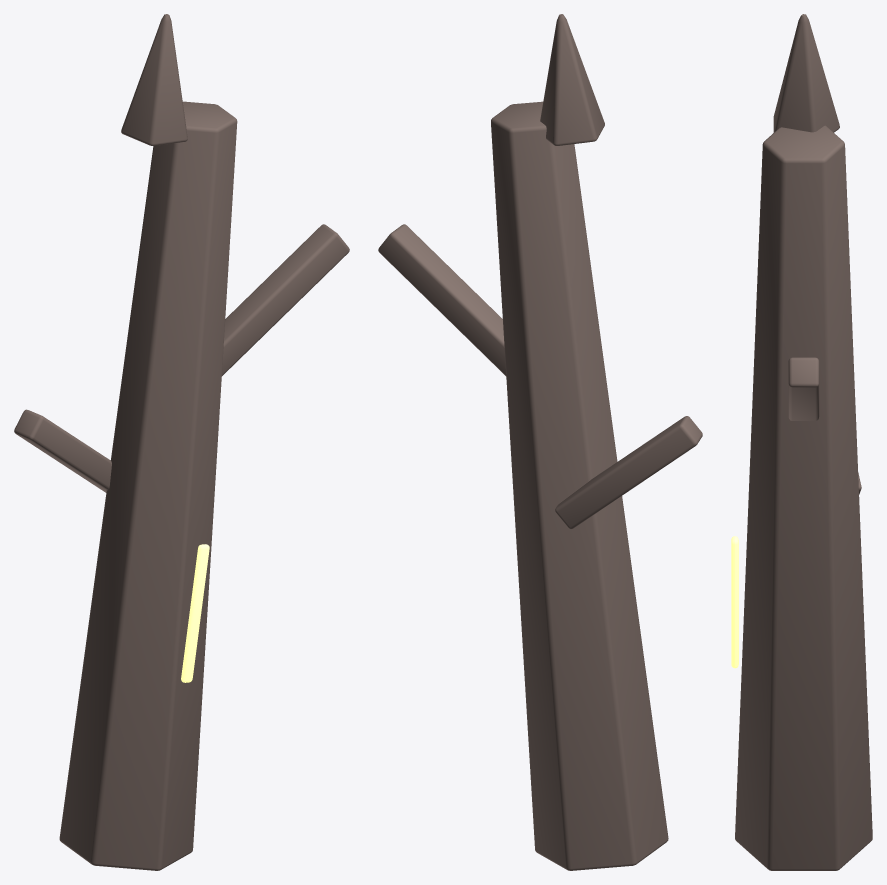
The model's file is ENV_Ember_BurntTree_1_S.fbx.
The picture shows the model from 3 angles, left to right: view 1: azimuth 30°, elevation 25°; view 2: azimuth 150°, elevation 25°; view 3: azimuth 270°, elevation 25°; orthographic projection. The views are drawn at different scales.
Visible parts, largest first — view 1: ENV_Ember_BurntTree_1_S; view 2: ENV_Ember_BurntTree_1_S; view 3: ENV_Ember_BurntTree_1_S.
Part boxes in pixels (x1,y1,x2,y2): ENV_Ember_BurntTree_1_S: (14,14,349,870); ENV_Ember_BurntTree_1_S: (378,14,702,870); ENV_Ember_BurntTree_1_S: (731,14,872,870).
Bounding box in the file's own units: 1.49 × 3.69 × 0.5552.
